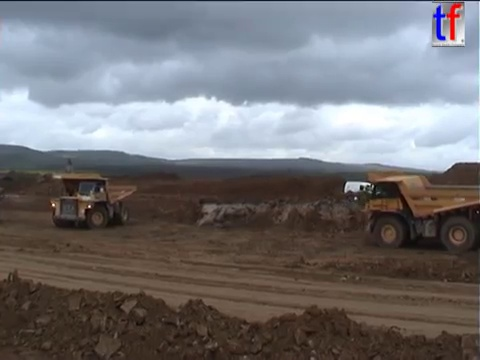truck: (352, 168, 480, 254), (48, 171, 138, 230)
worker: (364, 181, 373, 200)
